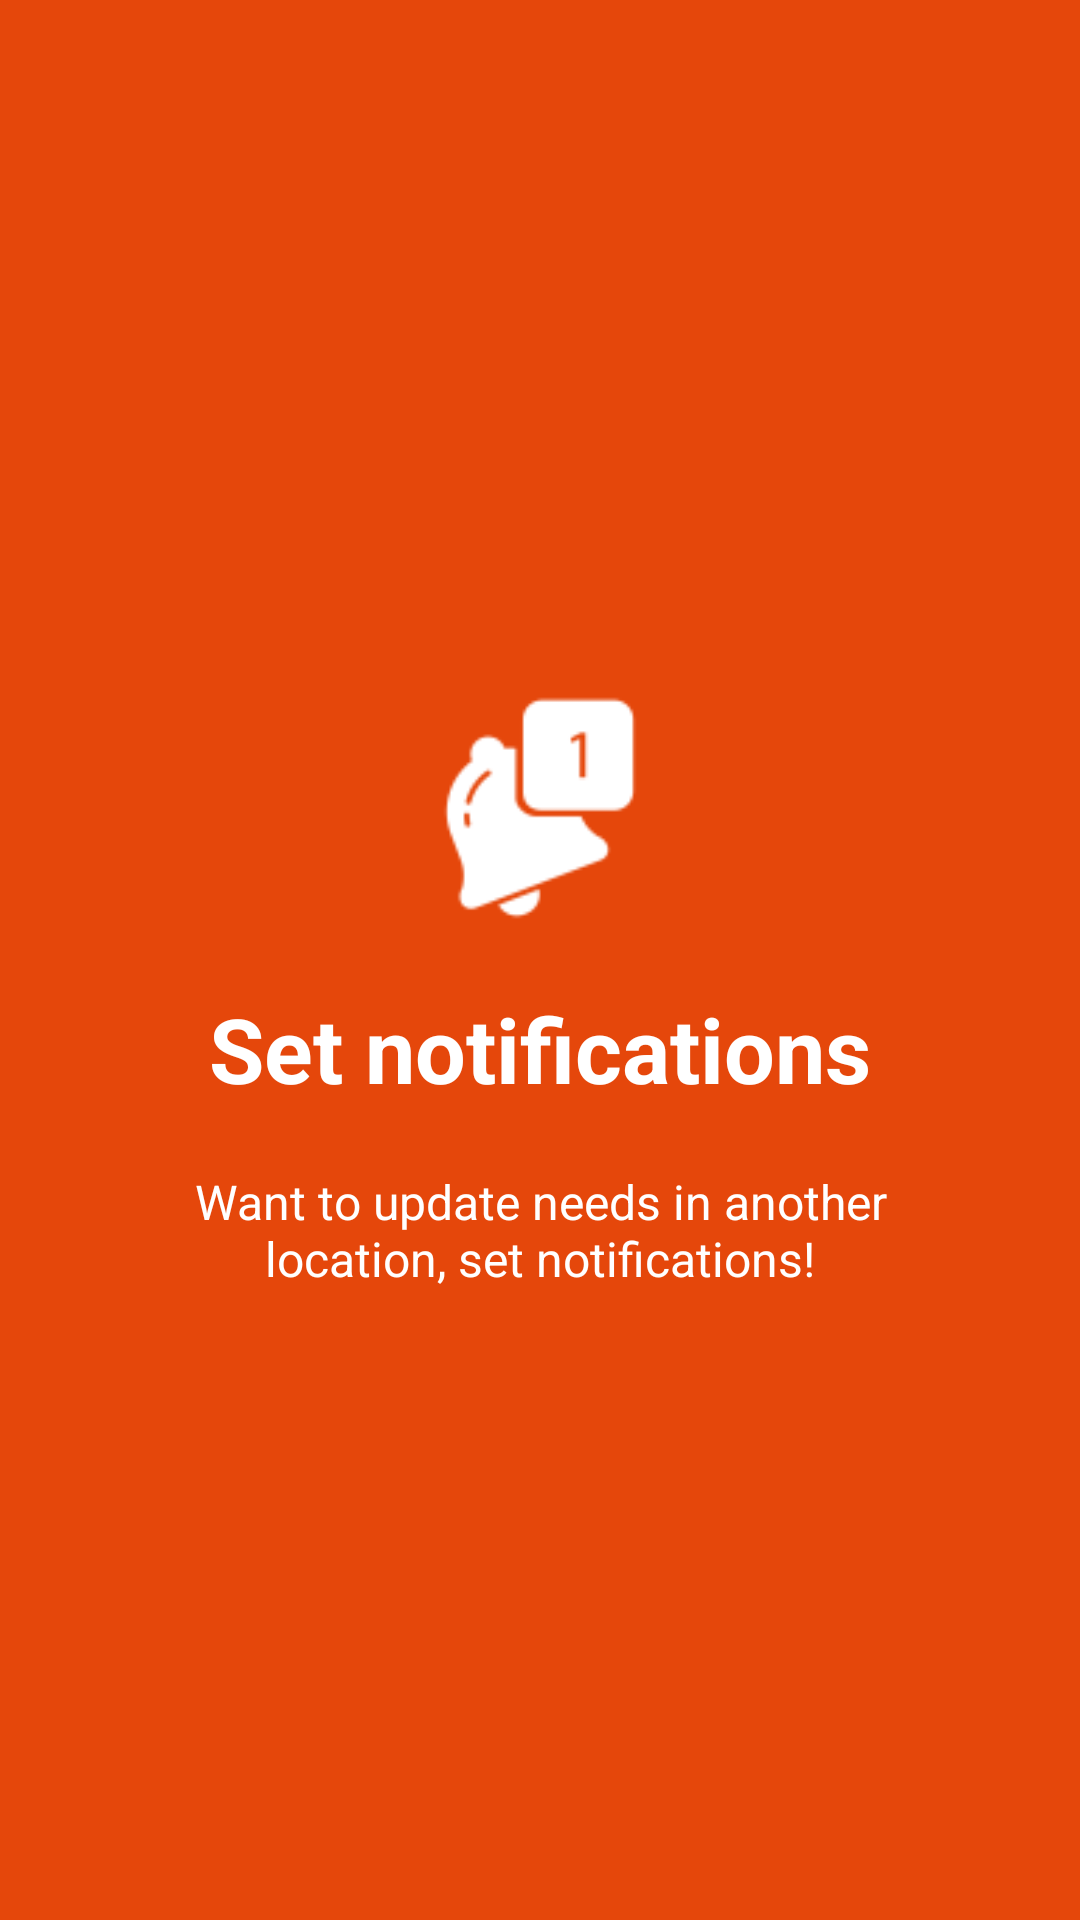

Screen size 1080×1920. Icon name, then its box in pixels as (x1, y1, x2, y2):
bell: (445, 698, 635, 918)
